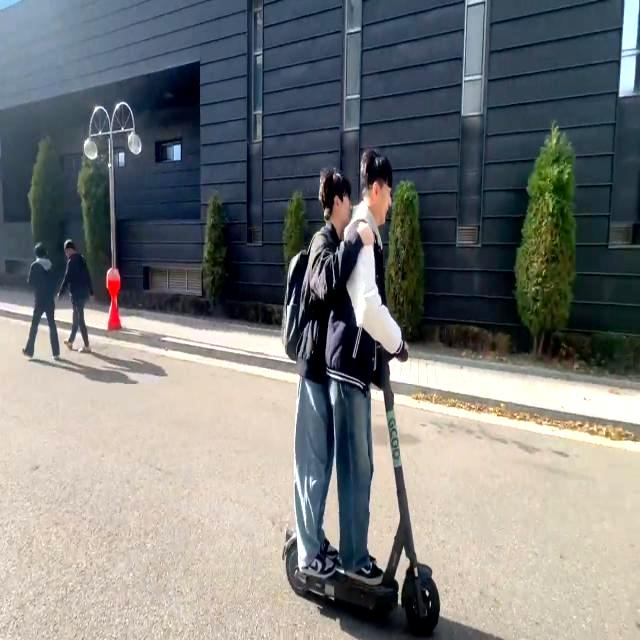bare_head: (360, 148, 402, 232), (311, 165, 359, 233)
human: (341, 152, 402, 586), (284, 163, 346, 579)
kickboard: (271, 521, 454, 640)
